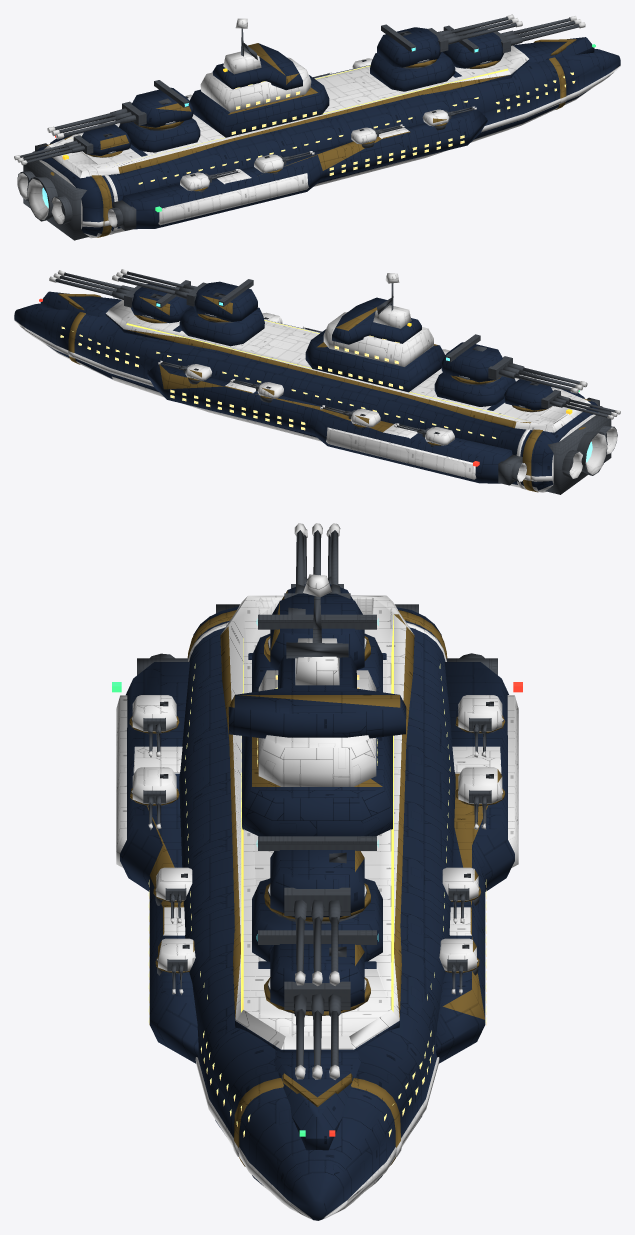
Rendered from warden_production_v1_lod2.glb.
3 renders of one model, top to bottom at view 1: azimuth 30°, elevation 25°; view 2: azimuth 150°, elevation 25°; view 3: azimuth 270°, elevation 25°, orthographic. The views are drawn at different scales.
Parts seen in each view (by area): view 1: LOD0_Hull, LOD0_Armor, LOD0_Mechanical, LOD0_Livery, LOD0_MechanicalDark, LOD0_Lights_Warm, LOD0_Lights_Cyan_gold; view 2: LOD0_Hull, LOD0_Armor, LOD0_Mechanical, LOD0_Livery, LOD0_MechanicalDark, LOD0_HOOK_ARMOR_PORT_Armor, LOD0_Lights_Warm, LOD0_Lights_Cyan_gold, LOD0_HOOK_SECONDARY_TURRET_Armor; view 3: LOD0_Hull, LOD0_Armor, LOD0_Mechanical, LOD0_Livery, LOD0_MechanicalDark, LOD0_HOOK_ARMOR_PORT_Armor, LOD0_Lights_Cyan_gold, LOD0_HOOK_SENSOR_MAST_Mechanical, LOD0_Lights_Warm, LOD0_HOOK_SECONDARY_TURRET_Armor.
Boxes of the visible parts, bbox=[...] form: LOD0_Hull: bbox=[36, 27, 620, 236]; LOD0_Armor: bbox=[44, 45, 594, 238]; LOD0_Mechanical: bbox=[17, 17, 579, 240]; LOD0_Livery: bbox=[44, 39, 576, 237]; LOD0_MechanicalDark: bbox=[14, 14, 620, 229]; LOD0_Lights_Warm: bbox=[138, 72, 575, 184]; LOD0_Lights_Cyan_gold: bbox=[71, 65, 508, 160]; LOD0_Hull: bbox=[14, 281, 598, 490]; LOD0_Armor: bbox=[41, 300, 590, 492]; LOD0_Mechanical: bbox=[55, 271, 617, 494]; LOD0_Livery: bbox=[58, 293, 590, 492]; LOD0_MechanicalDark: bbox=[14, 269, 620, 483]; LOD0_HOOK_ARMOR_PORT_Armor: bbox=[326, 427, 476, 479]; LOD0_Lights_Warm: bbox=[60, 326, 496, 438]; LOD0_Lights_Cyan_gold: bbox=[126, 320, 521, 419]; LOD0_HOOK_SECONDARY_TURRET_Armor: bbox=[425, 427, 454, 445]; LOD0_Hull: bbox=[120, 584, 514, 1220]; LOD0_Armor: bbox=[116, 595, 502, 1219]; LOD0_Mechanical: bbox=[131, 530, 503, 1066]; LOD0_Livery: bbox=[129, 590, 505, 1166]; LOD0_MechanicalDark: bbox=[131, 523, 502, 1218]; LOD0_HOOK_ARMOR_PORT_Armor: bbox=[507, 695, 518, 867]; LOD0_Lights_Cyan_gold: bbox=[241, 615, 393, 1012]; LOD0_HOOK_SENSOR_MAST_Mechanical: bbox=[286, 596, 348, 658]; LOD0_Lights_Warm: bbox=[148, 664, 486, 1137]; LOD0_HOOK_SECONDARY_TURRET_Armor: bbox=[458, 695, 502, 731].
Size of what is drawn, in the model's own units: 42.13 by 11.01 by 12.5.
12 materials, 5 textured.
